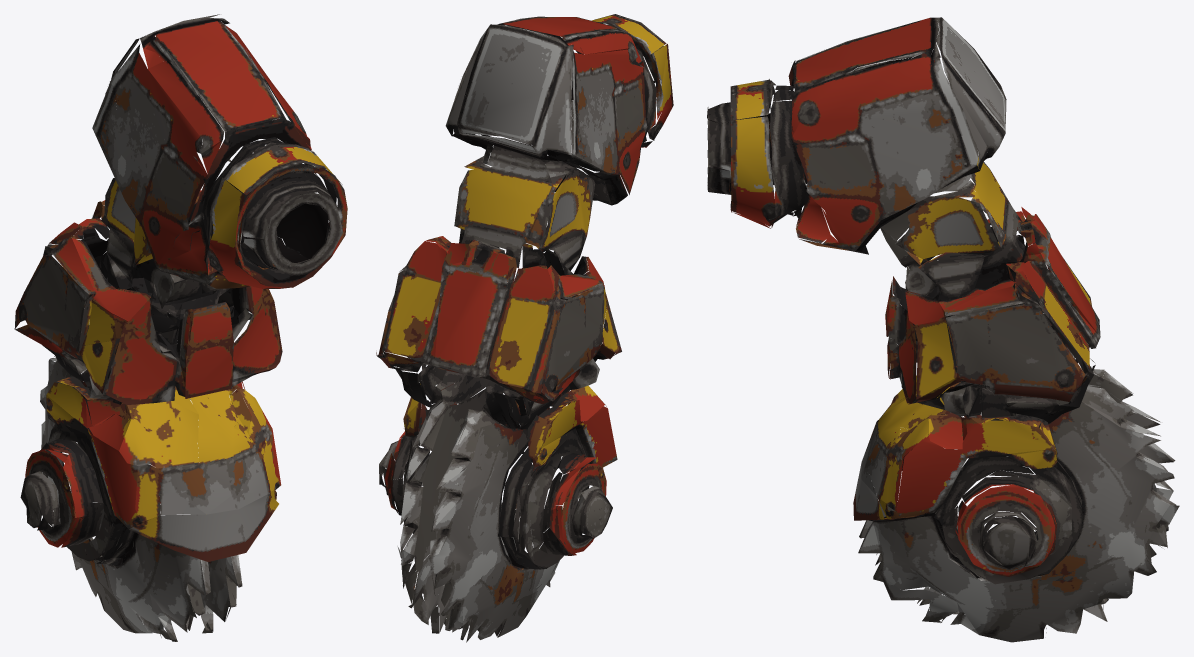
The model's file is ar_saw.glb.
3 renders of one model, left to right at view 1: azimuth 30°, elevation 25°; view 2: azimuth 150°, elevation 25°; view 3: azimuth 270°, elevation 25°, orthographic. The views are drawn at different scales.
Parts seen in each view (by area): view 1: ar_saw; view 2: ar_saw; view 3: ar_saw.
Boxes of the visible parts, <box> form: ar_saw: <box>14,14,347,641</box>; ar_saw: <box>376,14,673,642</box>; ar_saw: <box>707,17,1179,642</box>.
Size of the model in its own units: 0.1639 by 0.42 by 0.3.
Materials: 1 (1 with a texture image).
